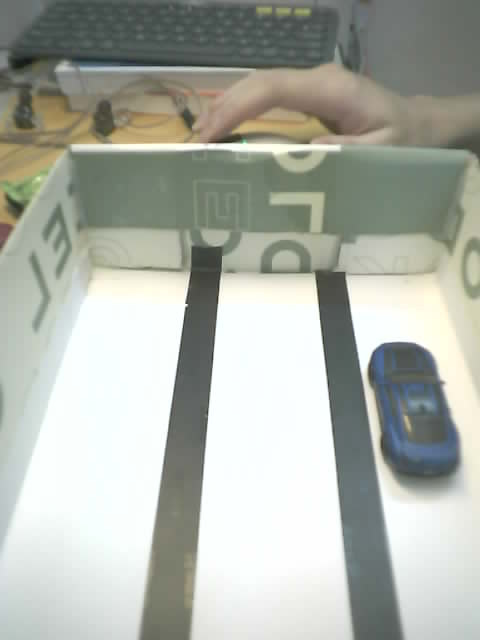vehicle: (367, 342, 463, 499)
